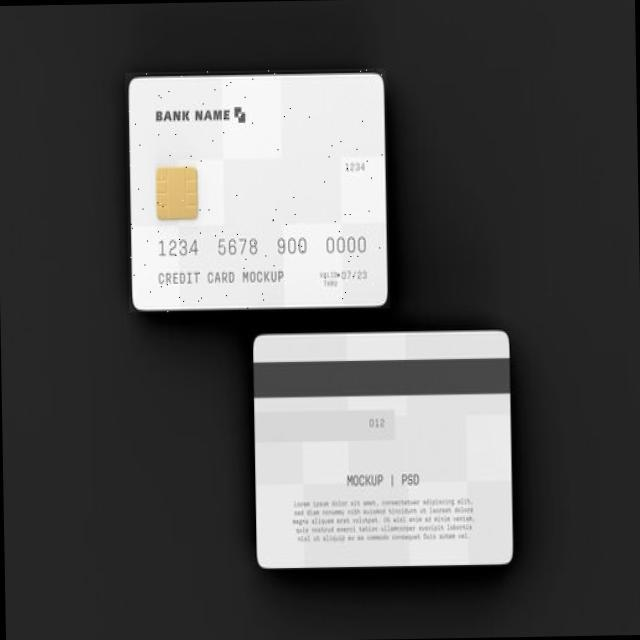payment_card: (126, 70, 389, 312), (251, 329, 513, 570)
